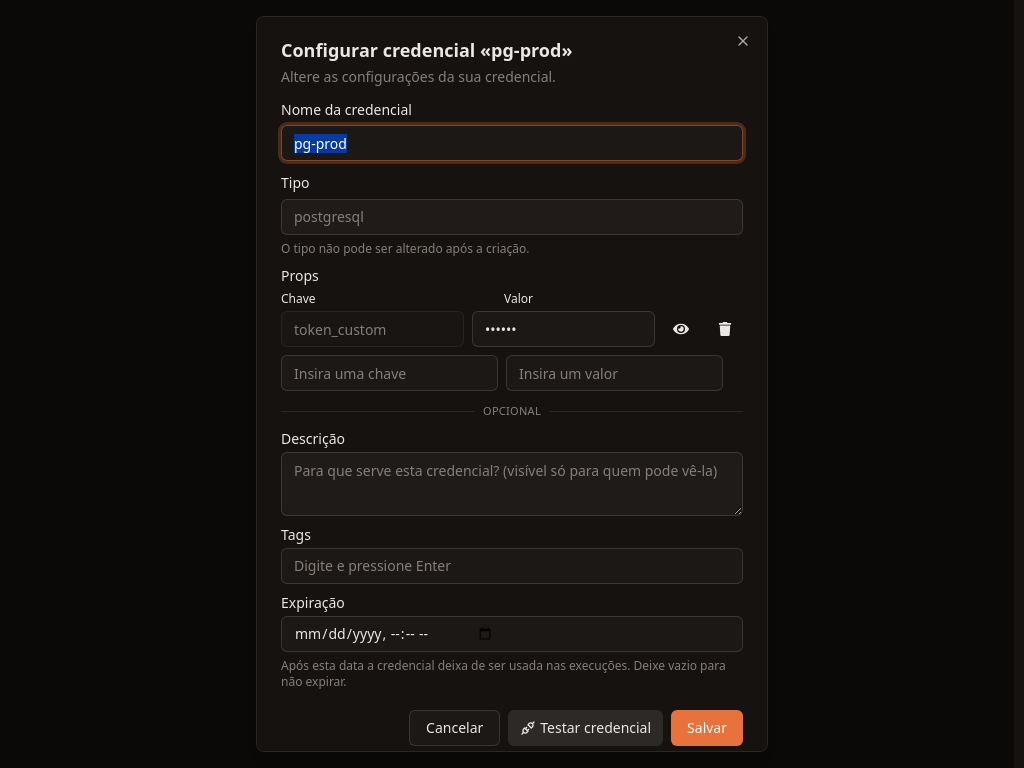
Correcoes de revisao › mascara o valor no editor livre MAS oferece como revelar
Click the button named "mostrar valor de token_custom" at {"x": 681, "y": 329}, box [663,311,699,347]
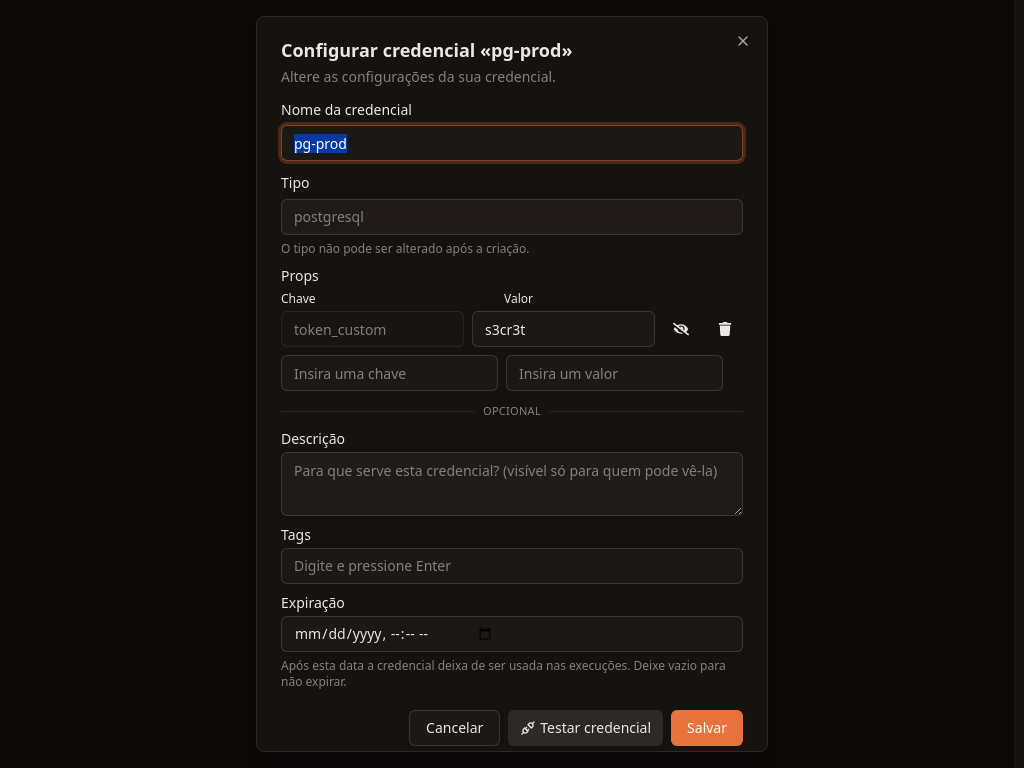
Result: the field named "Valor de token_custom" shows its text at [472,311,655,347]
